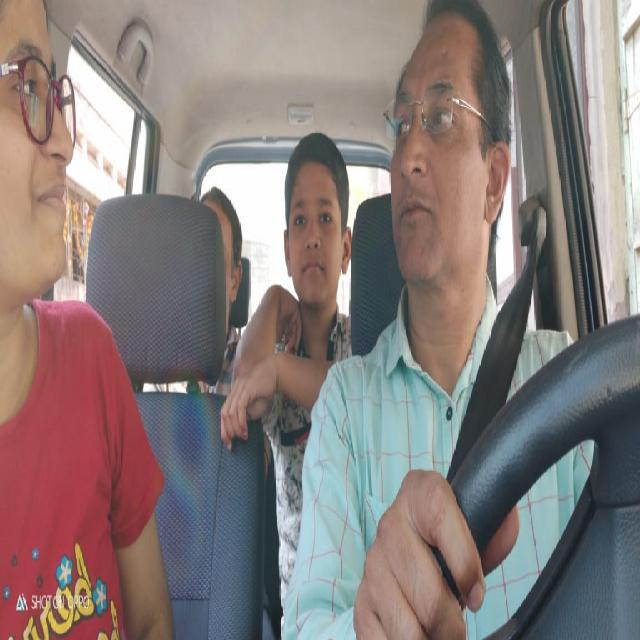LeftRight: (384, 0, 519, 366)
person: (2, 3, 98, 332), (279, 120, 356, 326)
